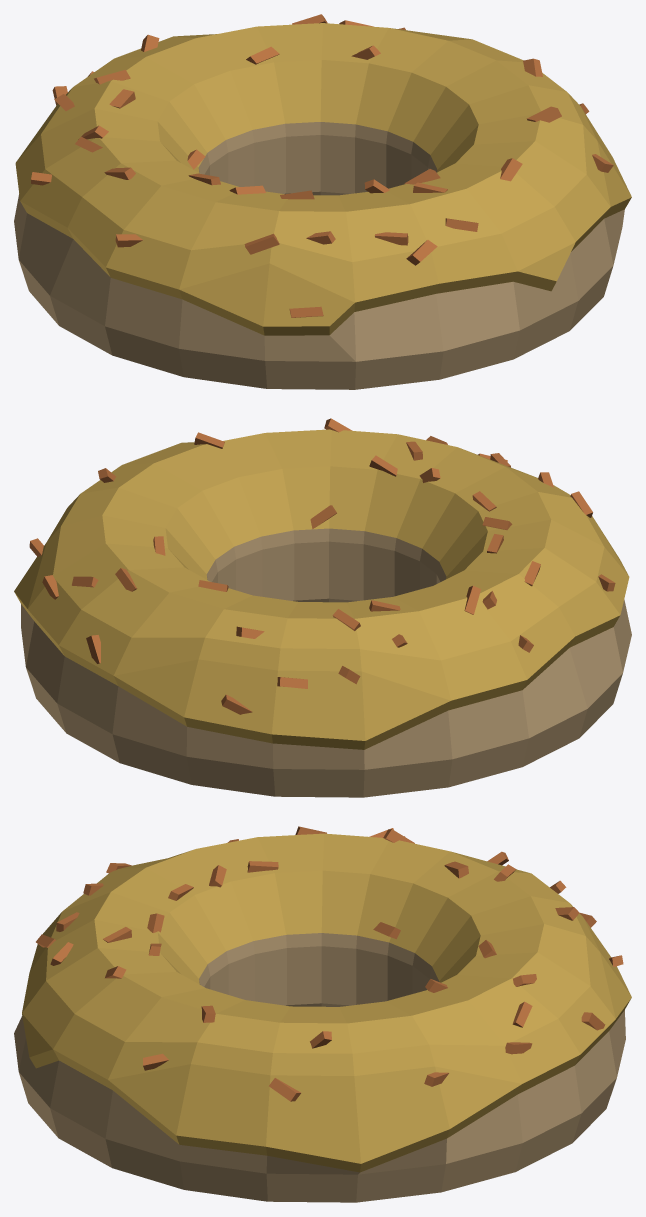
Rendered from Donut2.glb.
The picture shows the model from 3 angles, top to bottom: view 1: azimuth 30°, elevation 25°; view 2: azimuth 150°, elevation 25°; view 3: azimuth 270°, elevation 25°; orthographic projection.
Parts seen in each view (by area): view 1: Donut2; view 2: Donut2; view 3: Donut2.
Part boxes in pixels (x1,y1,x2,y2): Donut2: [14, 14, 631, 389]; Donut2: [14, 418, 631, 797]; Donut2: [14, 826, 631, 1202].
Size of the model in its own units: 0.8795 by 0.2914 by 0.8673.
